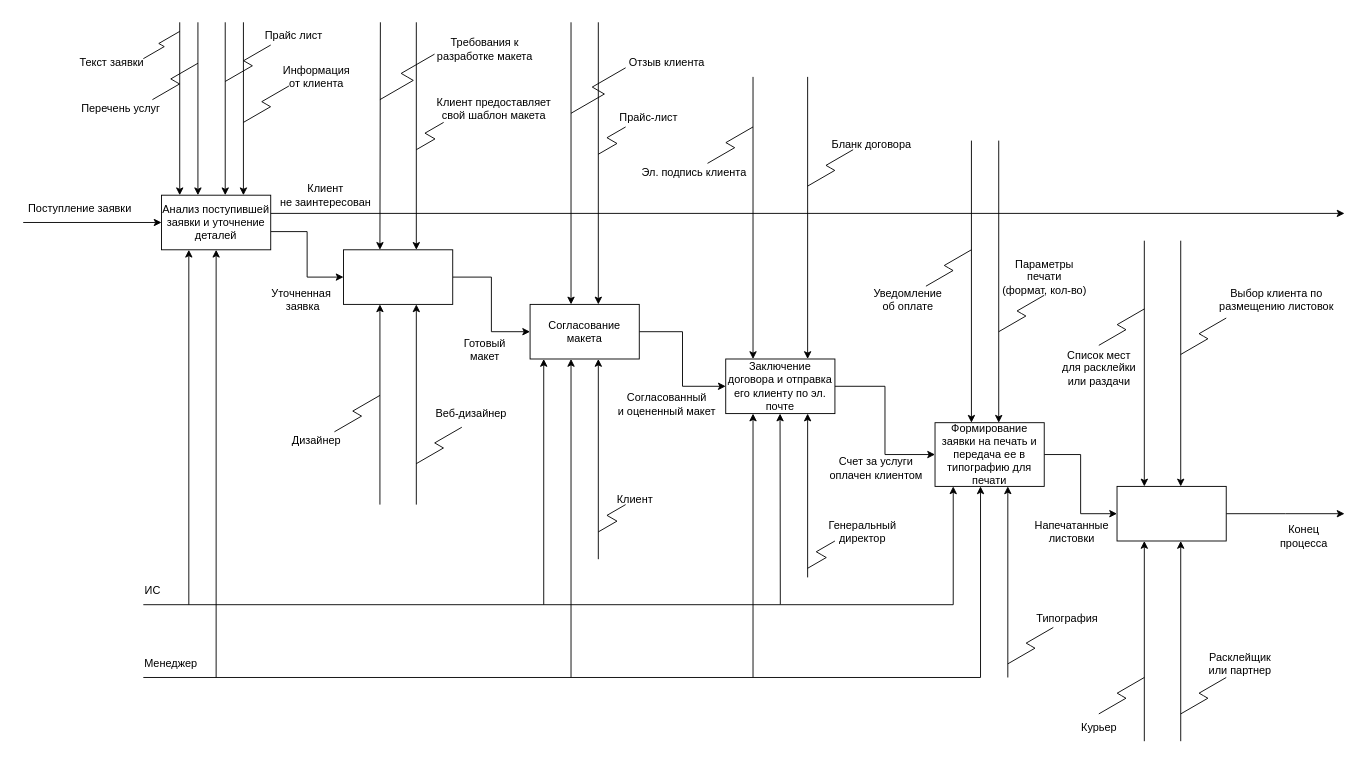
The diagram is 1368 pixels wide and 764 high, and some of its shapes have lost their labels. Each missing label, with the centre of its shape:
"Передача листовок расклейщику или партнеру и их реализация" belongs at pixel 1171 513.
"Разработка макета" belongs at pixel 398 276.
